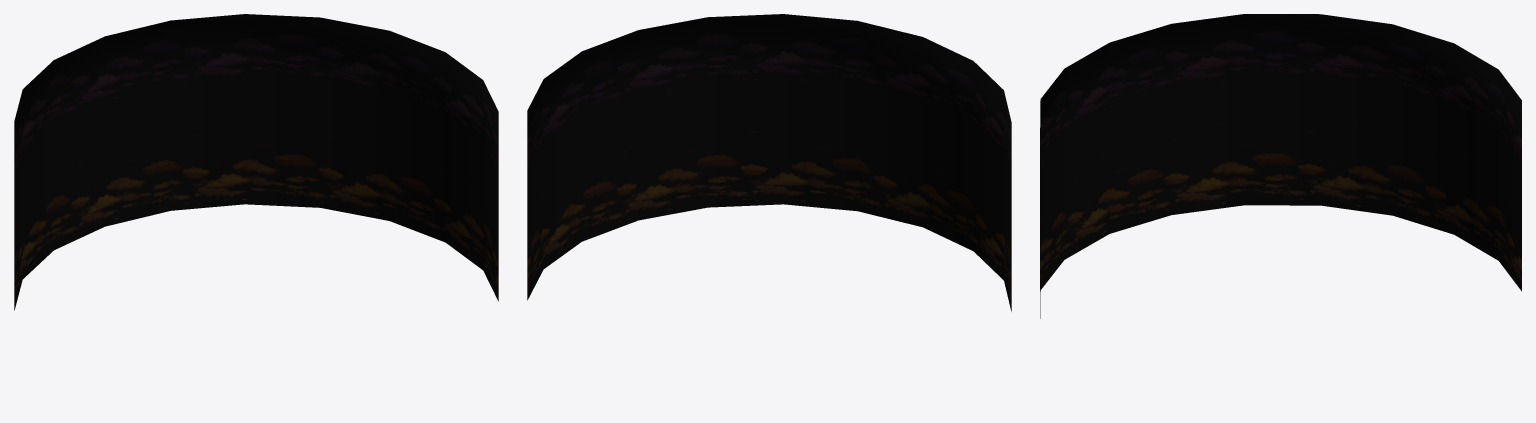
The model's file is vrcorn.glb.
3 renders of one model, left to right at view 1: azimuth 30°, elevation 25°; view 2: azimuth 150°, elevation 25°; view 3: azimuth 270°, elevation 25°, orthographic.
Visible parts, largest first — view 1: polygon0; view 2: polygon0; view 3: polygon0.
Boxes of the visible parts, x1,y1,x2,y2 form: polygon0: (14,14,498,310); polygon0: (527,14,1011,311); polygon0: (1040,14,1521,318).
Size of the model in its own units: 1555 by 899 by 1555.
1 material, 1 textured.
